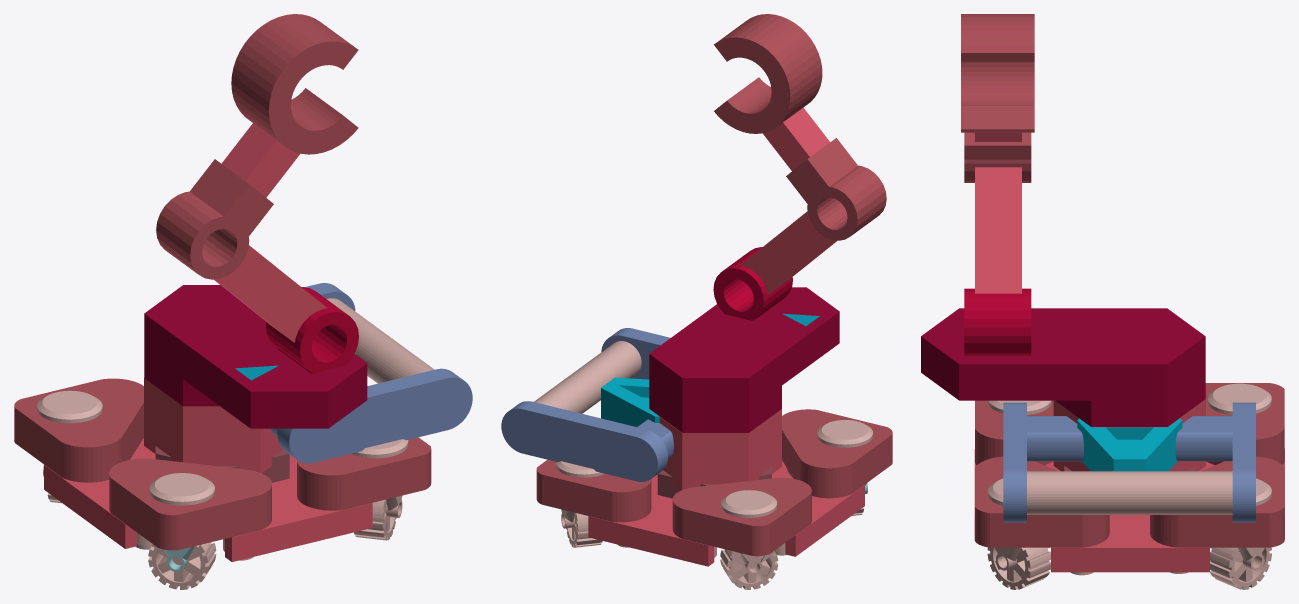
File: bot-swerve-red-manipulator.glb
3 renders of one model, left to right at view 1: azimuth 30°, elevation 25°; view 2: azimuth 150°, elevation 25°; view 3: azimuth 270°, elevation 25°, orthographic. The views are drawn at different scales.
Parts seen in each view (by area): view 1: Mesh_Mesh_head_geo.001_lambert2SG.001; view 2: Mesh_Mesh_head_geo.001_lambert2SG.001; view 3: Mesh_Mesh_head_geo.001_lambert2SG.001.
Part boxes in pixels (x1,y1,x2,y2): Mesh_Mesh_head_geo.001_lambert2SG.001: [14, 14, 472, 589]; Mesh_Mesh_head_geo.001_lambert2SG.001: [501, 14, 892, 589]; Mesh_Mesh_head_geo.001_lambert2SG.001: [921, 14, 1284, 589].
Bounding box in the file's own units: 0.0272 × 0.0433 × 0.0272.
